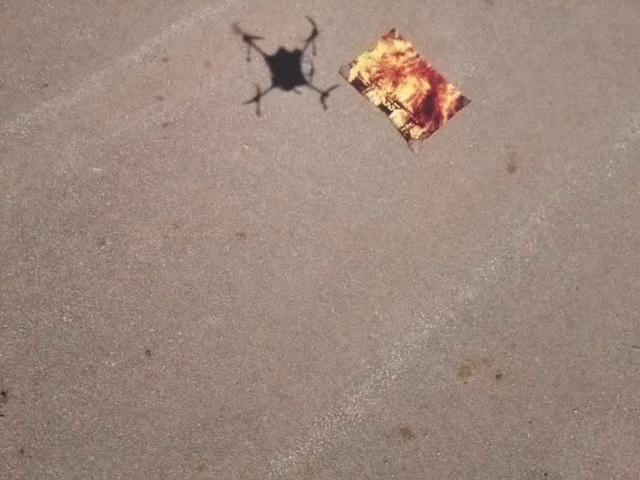fire-poster: (338, 25, 473, 154)
